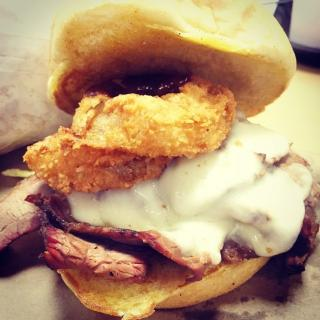Hamburger: (23, 0, 319, 319)
